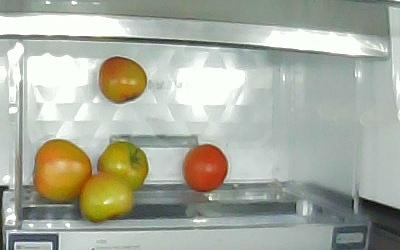tomato: (33, 139, 92, 201), (80, 172, 133, 223), (97, 141, 149, 190), (99, 56, 148, 105), (183, 144, 229, 192)
